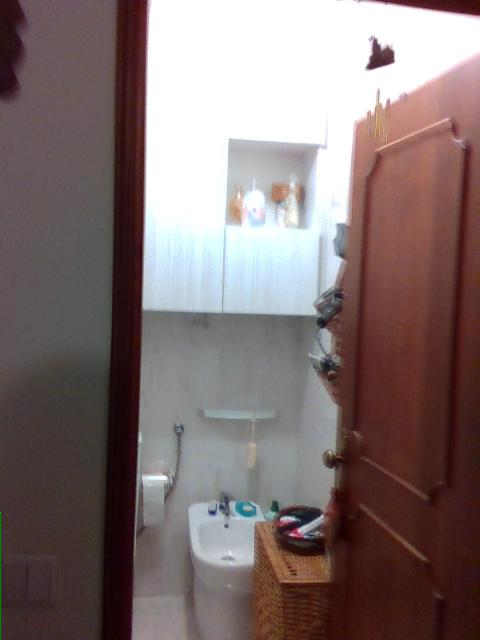door: (319, 53, 477, 639)
